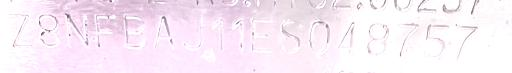letter: (5, 7, 39, 54), (360, 19, 396, 60), (275, 15, 309, 56), (450, 21, 484, 62), (118, 10, 150, 53), (304, 17, 336, 56), (421, 22, 453, 61), (179, 14, 209, 55), (150, 11, 178, 54), (63, 10, 91, 51), (248, 14, 276, 55), (92, 10, 120, 49), (394, 22, 422, 59), (36, 11, 62, 50), (334, 19, 358, 60), (230, 13, 250, 54), (208, 15, 228, 52)
